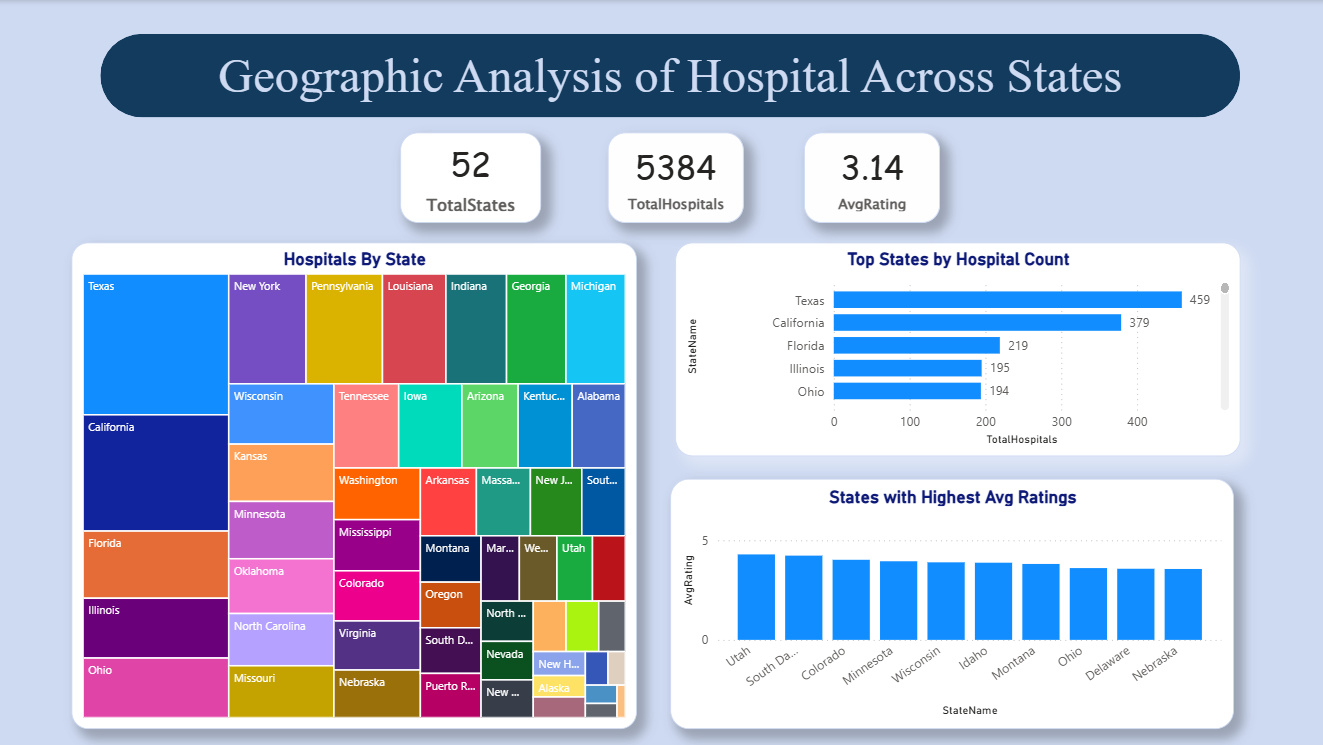

What the dashboard file says about the page in this screenshot:
{"tool":"powerbi","page":{"name":"Geographic Analysis","canvas":[1280,720],"ordinal":1},"visuals":[{"type":"treemap","title":"Hospitals By State","fields":{"Group":["Dim_State.StateName"],"Values":["Hospital.TotalHospitals"]},"box":[70,234,545.3,469.3],"z":0},{"type":"clusteredBarChart","title":"Top States by Hospital Count","fields":{"Category":["Dim_State.StateName"],"Y":["Hospital.TotalHospitals"]},"box":[652.7,234,545.3,206.3],"z":1000},{"type":"clusteredColumnChart","title":"States with Highest Avg Ratings","fields":{"Category":["Dim_State.StateName"],"Y":["Hospital.AvgRating"]},"box":[647.9,462.1,544.1,241.3],"z":2000},{"type":"shape","title":"HOSPITAL PERFORMANCE OVERVIEW","box":[97.7,32.6,1100.3,80.8],"z":3000},{"type":"card","fields":{"Values":["Dim_State.TotalStates"]},"box":[387.3,127.9,136.3,86.9],"z":4000},{"type":"card","fields":{"Values":["DAX_Measures.TotalHospitals"]},"box":[587.5,127.9,131.5,86.9],"z":5000},{"type":"card","fields":{"Values":["DAX_Measures.AvgRating"]},"box":[776.9,127.9,131.5,86.9],"z":6000}]}

Visuals, with their boxes in screenshot pixels (x1, y1, x2, y2), scaled from the page's 1280x720 canvas onto the 1323x745 screenshot:
"Hospitals By State" treemap: <bbox>72, 242, 636, 728</bbox>
"Top States by Hospital Count" clusteredBarChart: <bbox>675, 242, 1238, 456</bbox>
"States with Highest Avg Ratings" clusteredColumnChart: <bbox>670, 478, 1232, 728</bbox>
"HOSPITAL PERFORMANCE OVERVIEW" shape: <bbox>101, 34, 1238, 117</bbox>
card - Dim_State.TotalStates: <bbox>400, 132, 541, 222</bbox>
card - DAX_Measures.TotalHospitals: <bbox>607, 132, 743, 222</bbox>
card - DAX_Measures.AvgRating: <bbox>803, 132, 939, 222</bbox>
